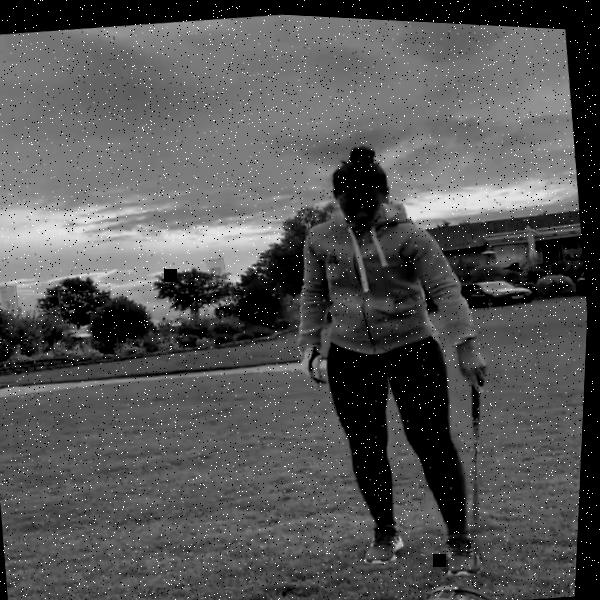GolfBall: (470, 593, 486, 600)
